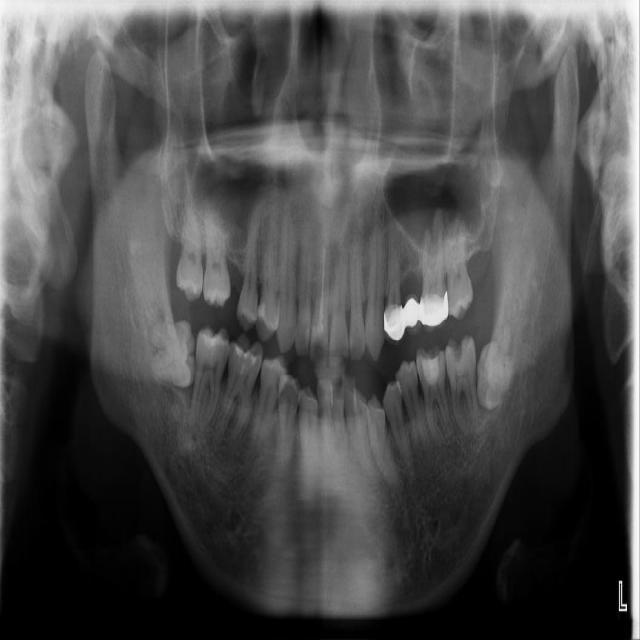3M ESPE Implant: (173, 190, 204, 303)
52: (374, 282, 458, 347), (218, 329, 269, 389), (191, 322, 232, 377), (413, 342, 452, 393), (253, 288, 283, 344), (308, 322, 330, 374), (444, 331, 471, 365)
73: (312, 239, 332, 335), (618, 616, 630, 629)
BioHorizons Implant: (442, 208, 474, 322)
Biomet 3i Implant: (469, 339, 522, 413)
Blue Sky Bio Implant: (443, 334, 480, 439)
Caries: (202, 197, 231, 308)
Implant: (185, 323, 232, 434)
Keystone Dental Implant: (149, 319, 198, 388)
